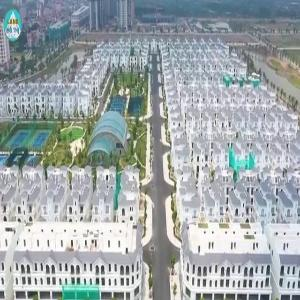drone: (31, 105, 59, 133)
